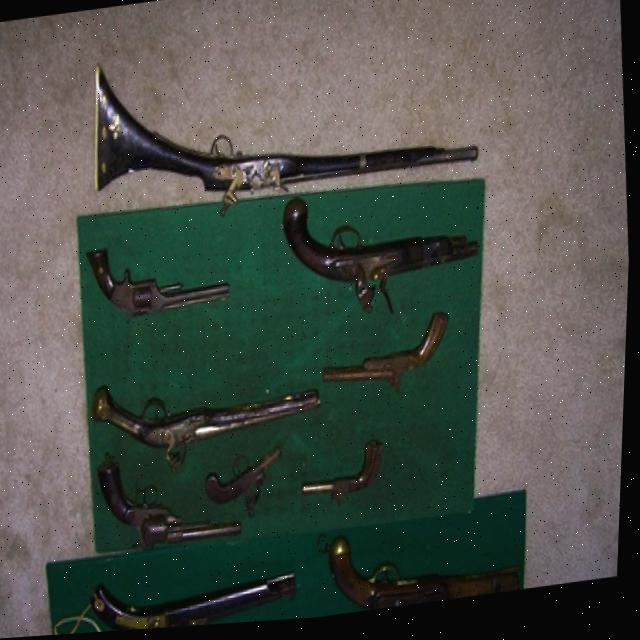firearm: (85, 15, 486, 236)
pistol: (90, 358, 330, 488), (282, 182, 487, 323), (316, 514, 526, 622), (95, 435, 250, 563), (90, 560, 304, 634), (84, 233, 235, 327), (320, 314, 458, 409), (203, 445, 290, 528), (300, 441, 391, 519)
